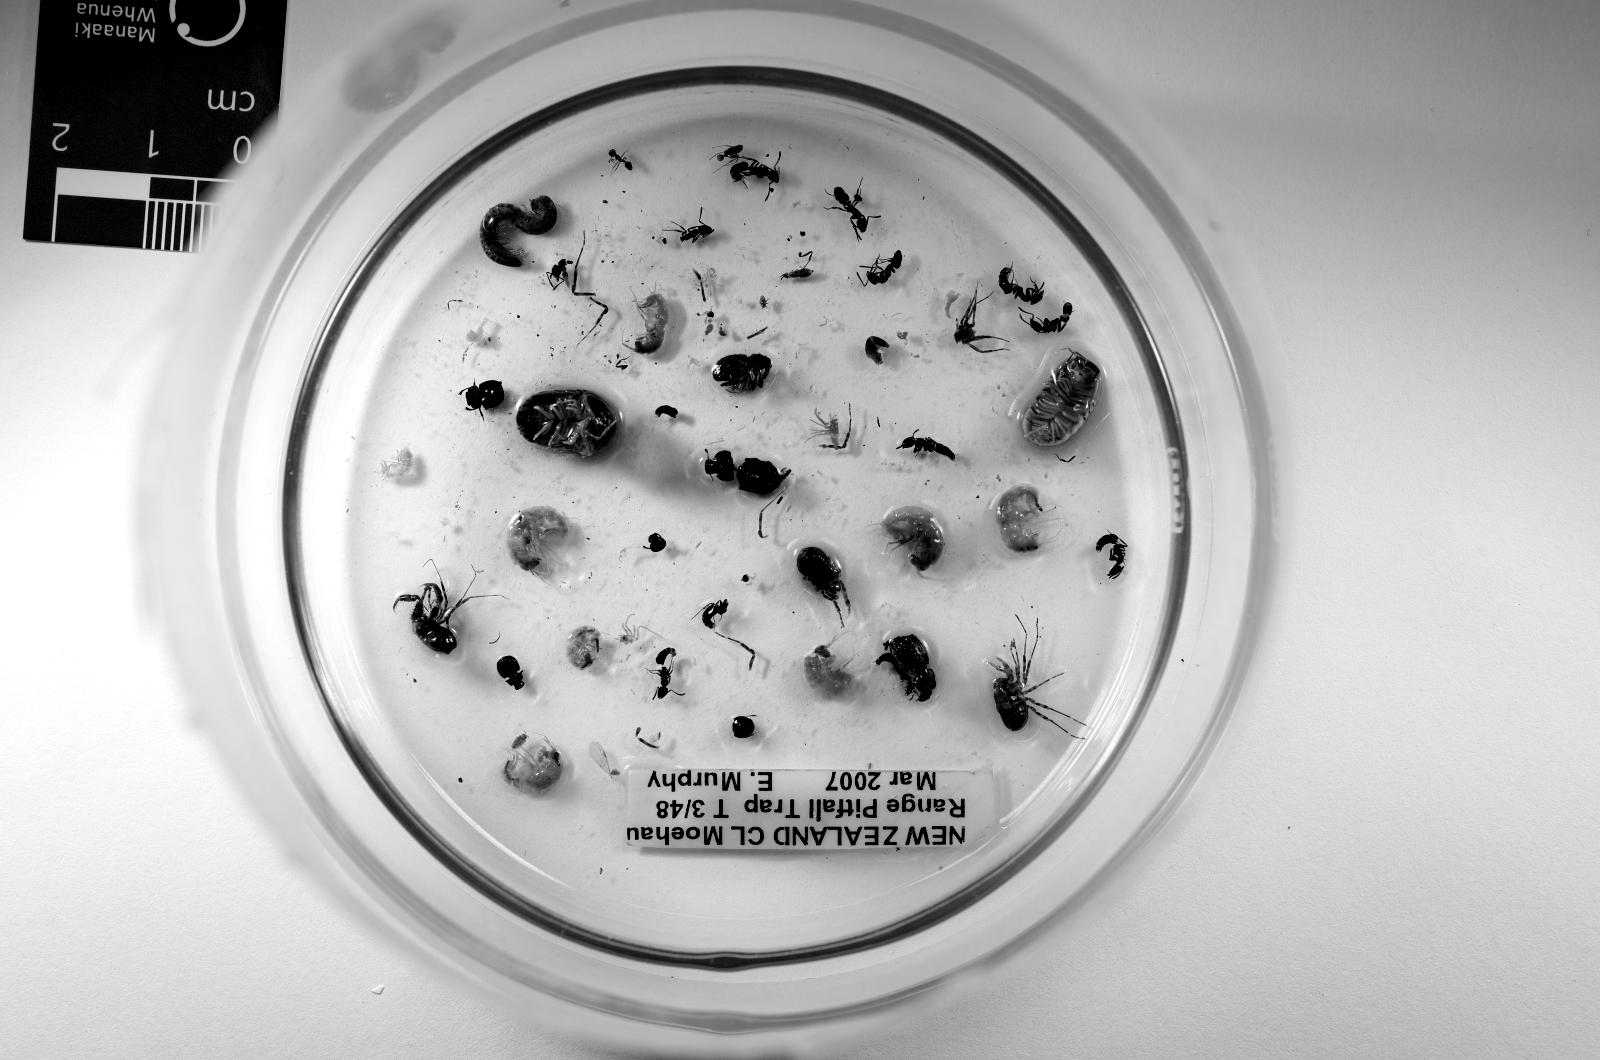amphipoda: (881, 506, 944, 575), (506, 506, 569, 575), (993, 485, 1056, 552), (500, 742, 563, 795), (803, 646, 853, 699), (634, 292, 669, 354), (565, 627, 600, 671), (381, 447, 413, 478)
araneae: (953, 292, 1003, 354), (812, 409, 841, 447)
coleoptera: (704, 451, 791, 493), (885, 634, 938, 702), (713, 354, 772, 392), (459, 379, 503, 409), (497, 655, 525, 690)
collembola: (782, 267, 812, 279), (512, 736, 529, 749)
diplopoda: (481, 195, 556, 267)
formicidae: (835, 187, 869, 239), (997, 267, 1044, 304), (728, 159, 778, 193), (900, 432, 957, 459), (1022, 302, 1071, 332), (672, 211, 713, 243), (1097, 535, 1128, 577), (866, 252, 903, 286), (653, 667, 672, 699), (609, 149, 634, 170), (715, 143, 744, 161)
isopoda: (1022, 354, 1100, 447), (516, 392, 616, 457)
opiliones: (394, 584, 478, 655), (991, 634, 1050, 730), (797, 547, 850, 608)
